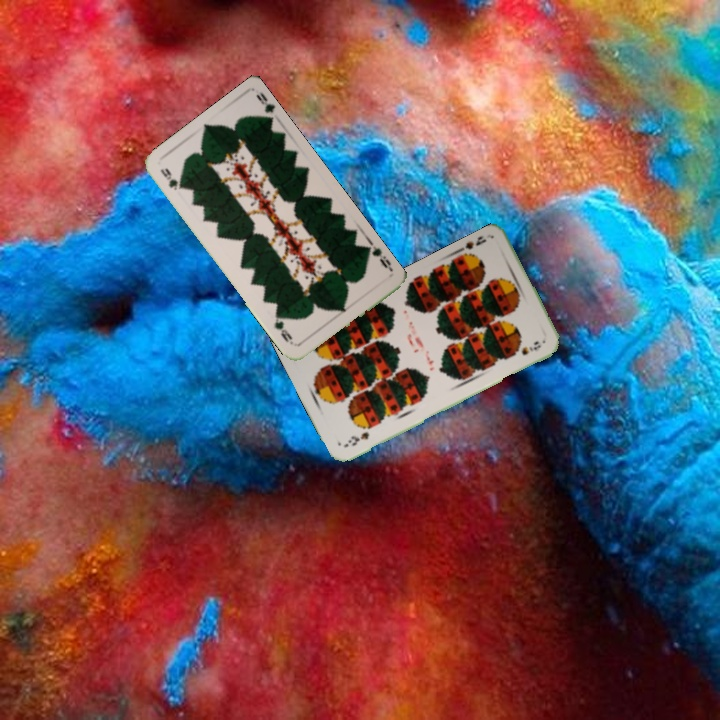G9: (364, 239, 395, 274), (156, 164, 186, 193)
S9: (453, 232, 489, 262), (344, 428, 372, 449)
